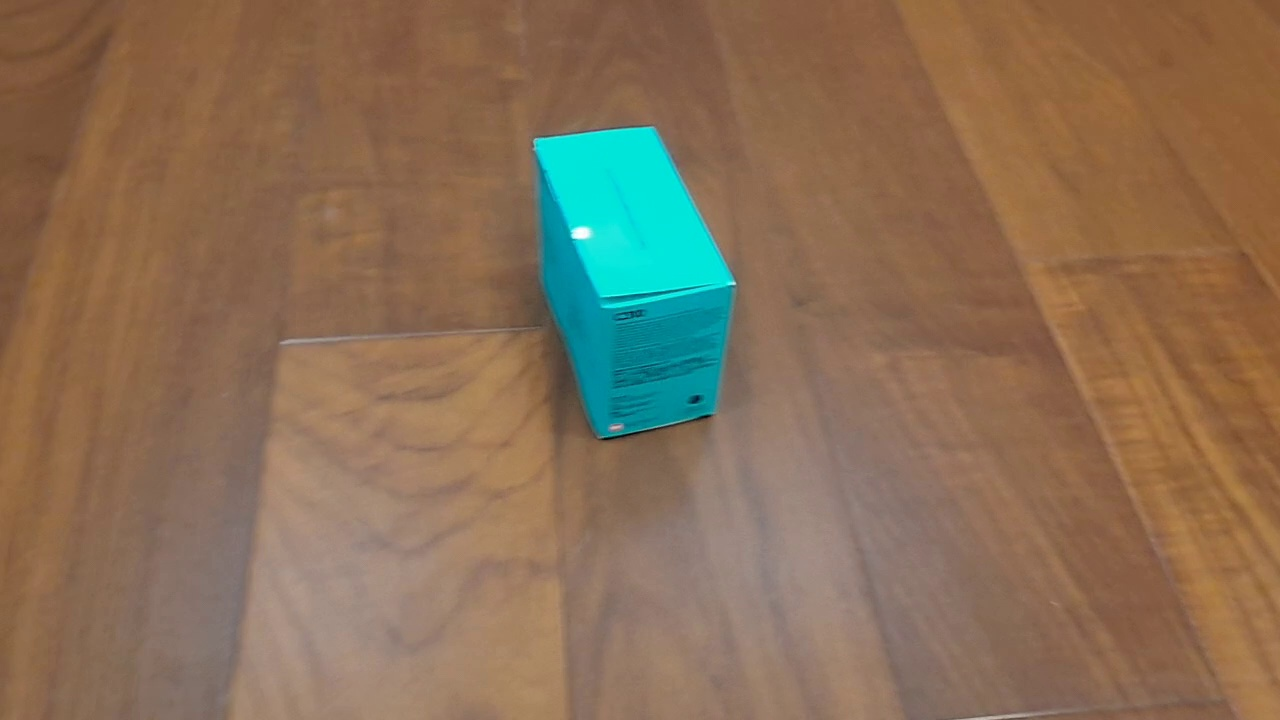webcam: (531, 121, 739, 443)
